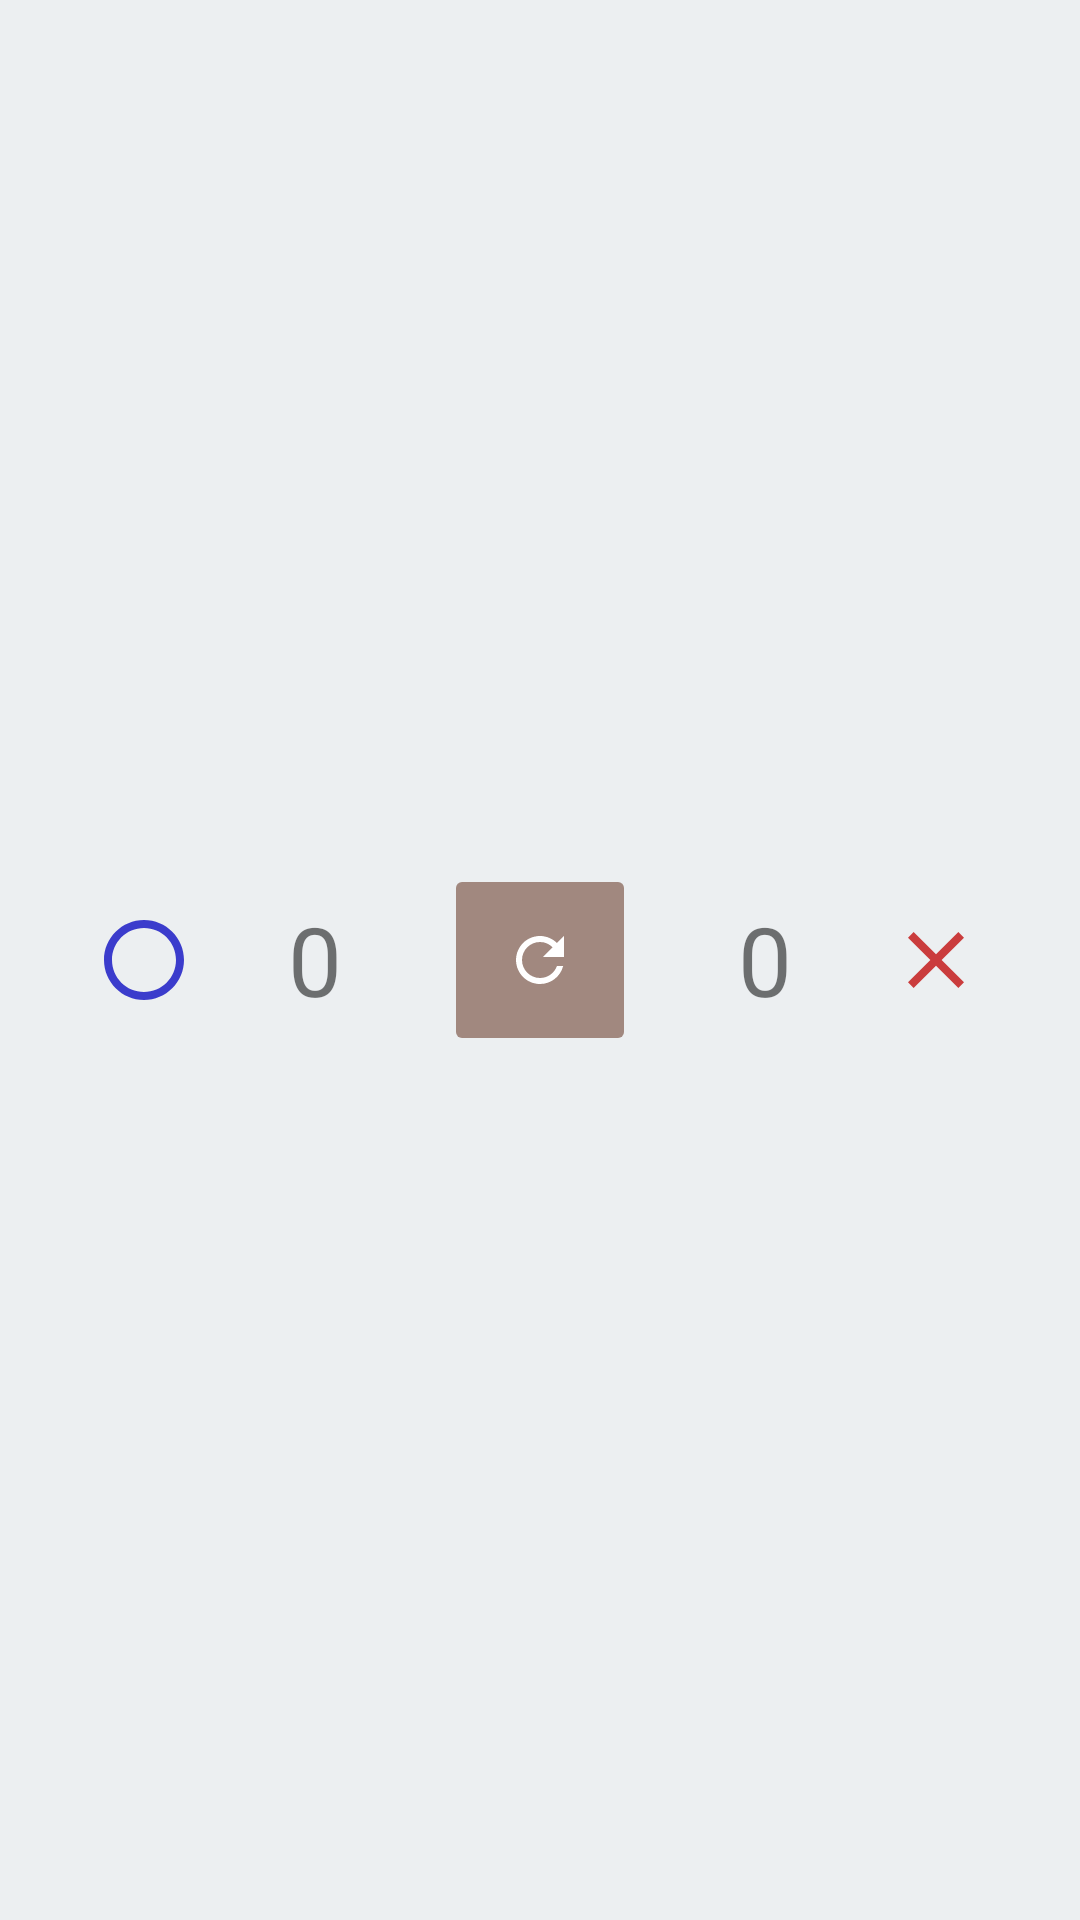

Screen size 1080 × 1920. Icon name, then its center in pixels as (x,y):
reset: (540,960)
